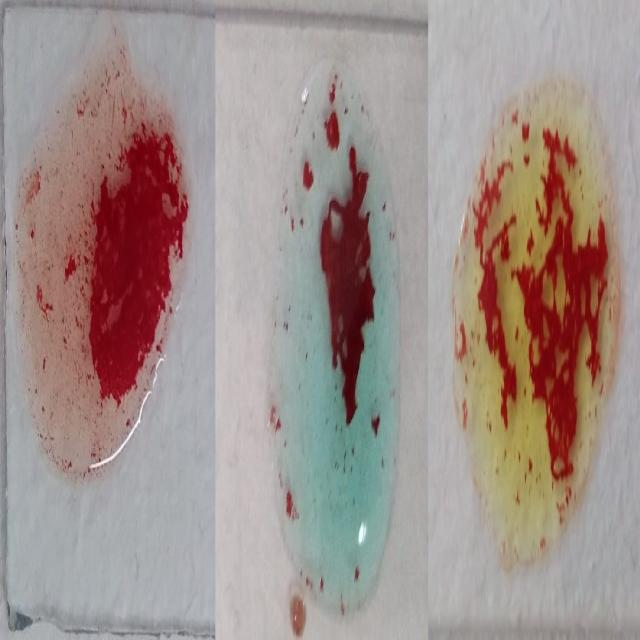A: (267, 68, 406, 614)
B: (462, 80, 616, 570)
D: (19, 47, 182, 494)
